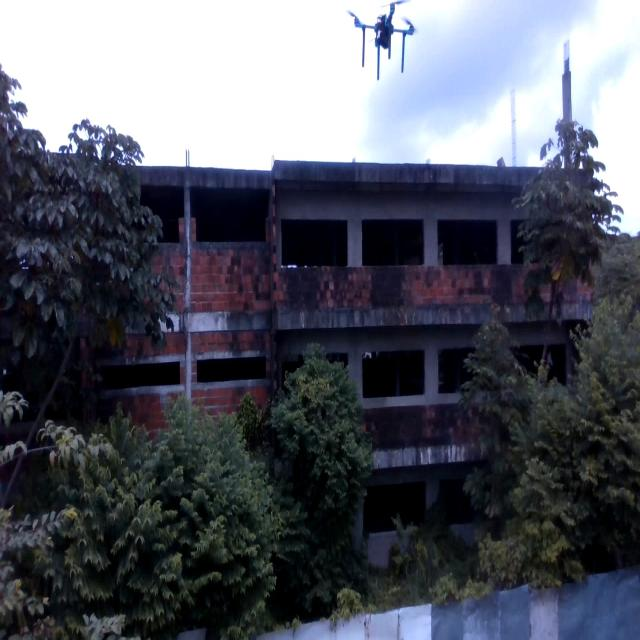-uav-: (342, 0, 425, 89)
